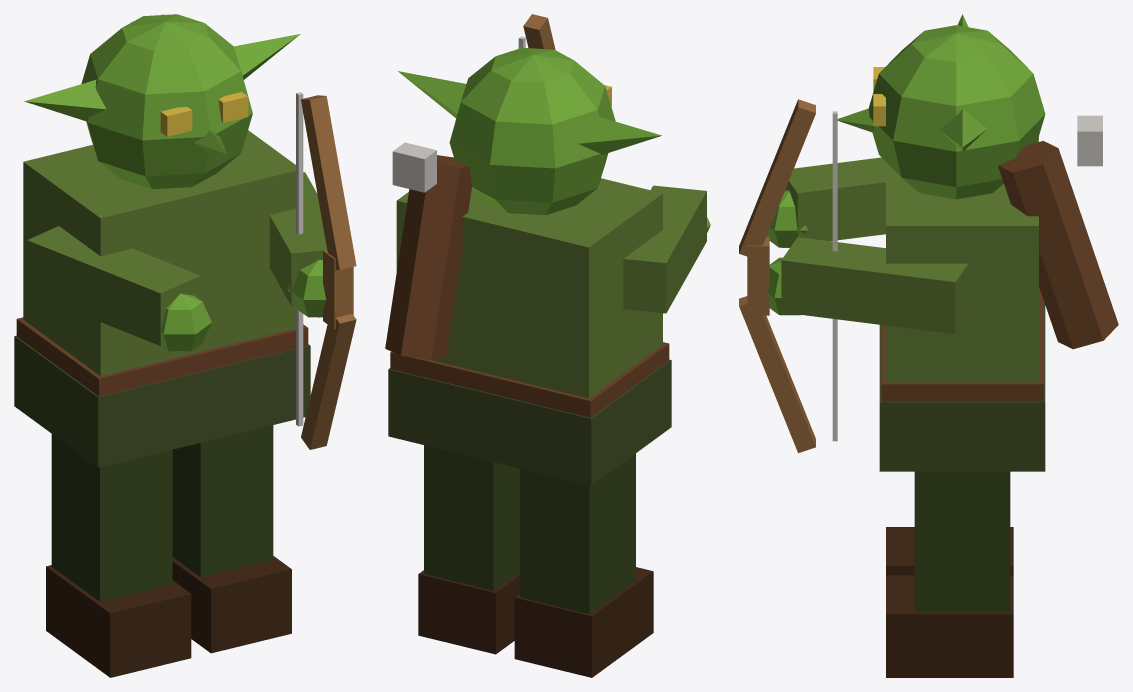
The model's file is e_archer.fbx.
3 views of the same model, side by side, from view 1: azimuth 30°, elevation 25°; view 2: azimuth 150°, elevation 25°; view 3: azimuth 270°, elevation 25° (orthographic). The views are drawn at different scales.
Visible parts, largest first — view 1: e_archer_Body, e_archer_LegR, e_archer_LegL; view 2: e_archer_Body, e_archer_LegR, e_archer_LegL; view 3: e_archer_Body, e_archer_LegL, e_archer_LegR.
Part boxes in pixels (x1=…): e_archer_Body: x1=14, y1=14, x2=356, y2=467; e_archer_LegR: x1=46, y1=434, x2=191, y2=677; e_archer_LegL: x1=172, y1=425, x2=291, y2=653; e_archer_Body: x1=385, y1=14, x2=710, y2=485; e_archer_LegR: x1=514, y1=453, x2=653, y2=677; e_archer_LegL: x1=418, y1=445, x2=519, y2=654; e_archer_Body: x1=739, y1=14, x2=1118, y2=471; e_archer_LegL: x1=886, y1=471, x2=1013, y2=677; e_archer_LegR: x1=886, y1=527, x2=1013, y2=575.
Size of the model in its own units: 0.4977 by 1.04 by 0.5954.
